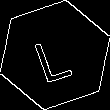L_N: (31, 26, 79, 84)
